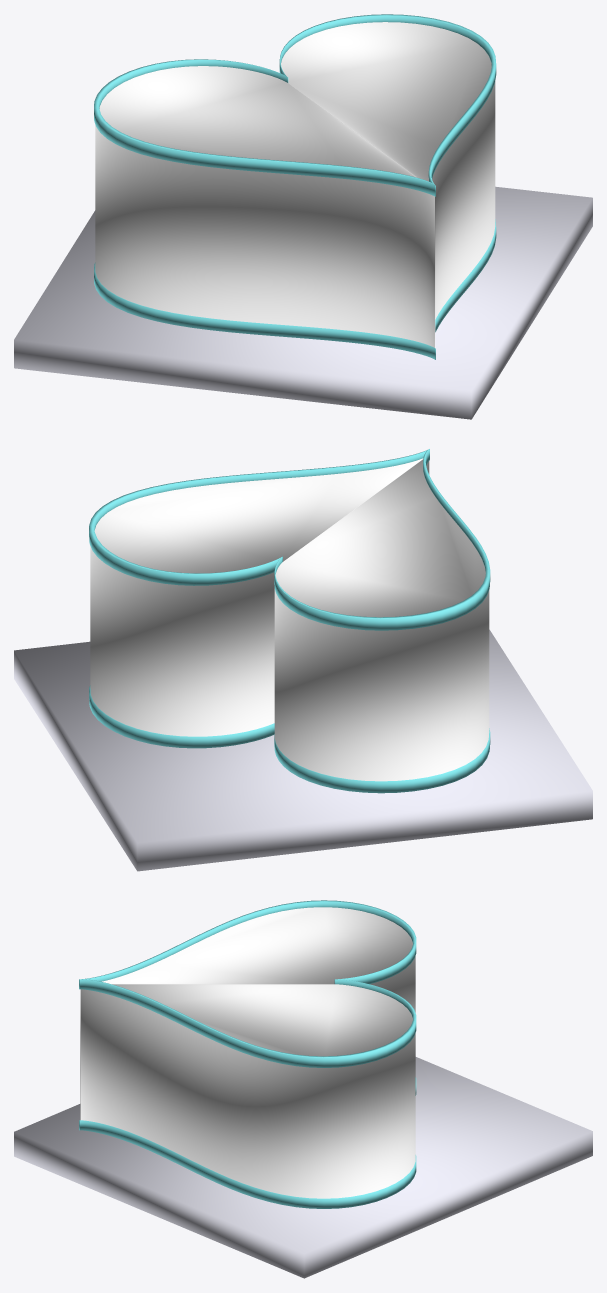
The model's file is heart_vanilla.glb.
The picture shows the model from 3 angles, top to bottom: view 1: azimuth 30°, elevation 25°; view 2: azimuth 150°, elevation 25°; view 3: azimuth 270°, elevation 25°; orthographic projection. The views are drawn at different scales.
Parts seen in each view (by area): view 1: HeartCake, IcingStand, HeartIcingRing, HeartIcingRing.001; view 2: HeartCake, IcingStand, HeartIcingRing, HeartIcingRing.001; view 3: HeartCake, IcingStand, HeartIcingRing, HeartIcingRing.001.
Boxes of the visible parts, bbox=[...] form: HeartCake: bbox=[95, 22, 495, 347]; IcingStand: bbox=[14, 186, 592, 419]; HeartIcingRing: bbox=[94, 14, 496, 196]; HeartIcingRing.001: bbox=[94, 219, 496, 359]; HeartCake: bbox=[90, 458, 489, 781]; IcingStand: bbox=[14, 629, 592, 871]; HeartIcingRing: bbox=[89, 449, 490, 630]; HeartIcingRing.001: bbox=[89, 685, 490, 793]; HeartCake: bbox=[80, 907, 415, 1198]; IcingStand: bbox=[14, 1057, 592, 1278]; HeartIcingRing: bbox=[79, 900, 416, 1067]; HeartIcingRing.001: bbox=[79, 1077, 416, 1208].
Bounding box in the file's own units: 4.24 × 1.44 × 4.24.
